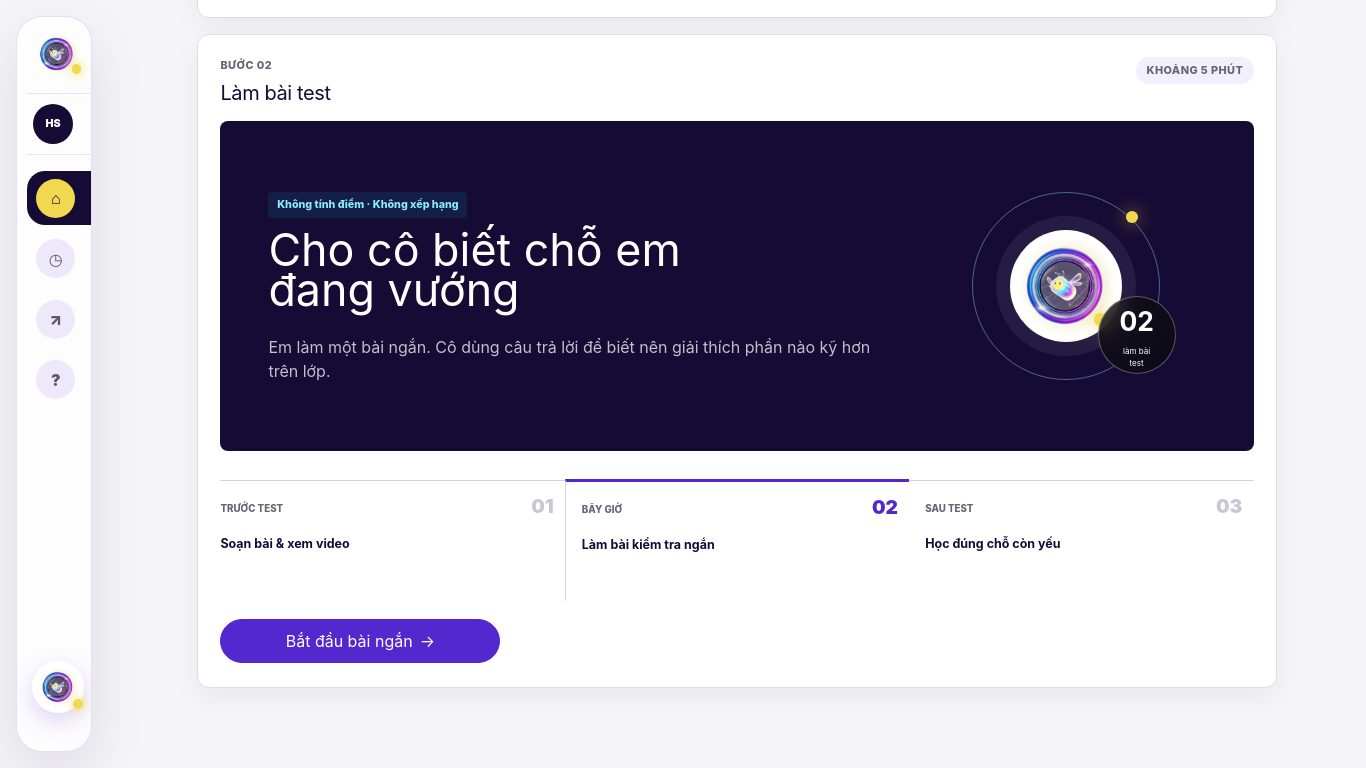
Test: StudentWorkspace › shows the confirmation disambiguation screen for an abstained profile
(page scrolled)
Click the button "Bắt đầu bài ngắn →".
click(360, 641)  # box [220,619,500,663]
(page scrolled)
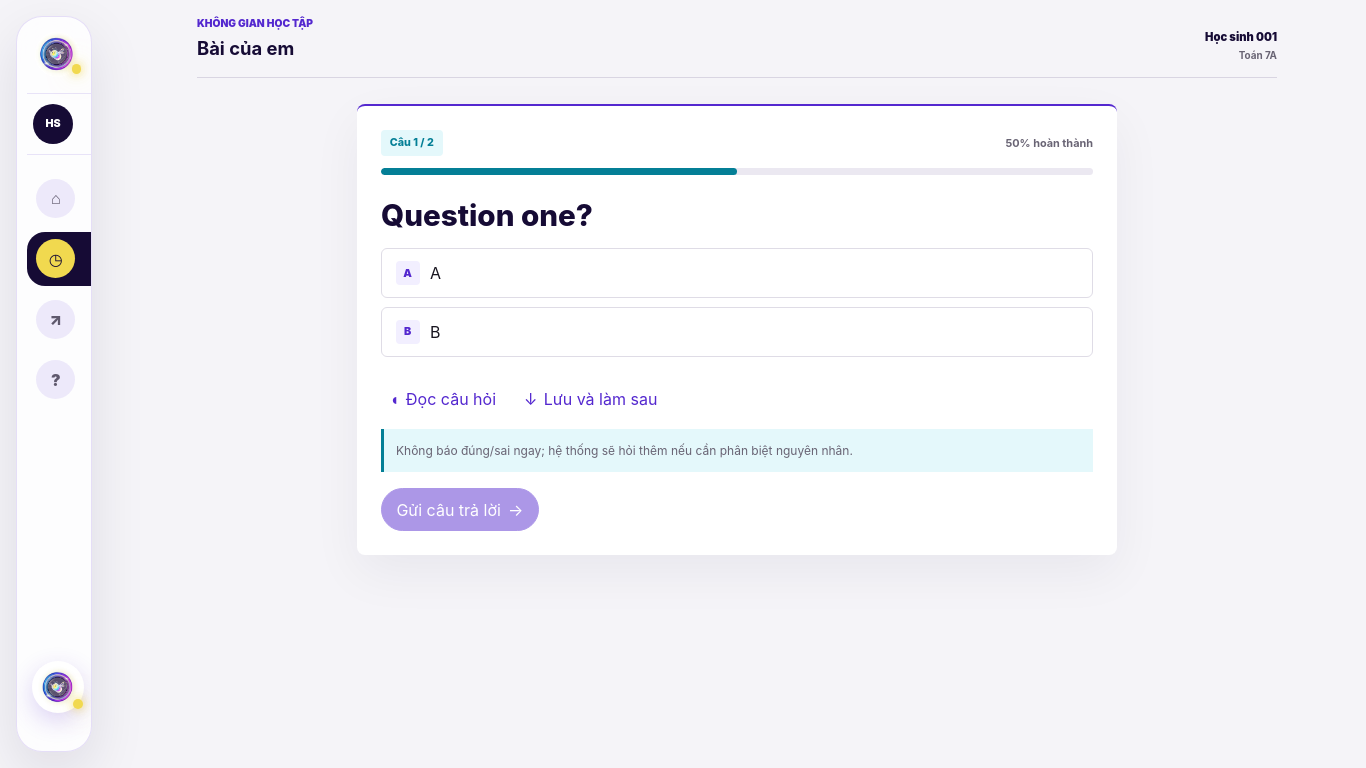
Click the radio button labelled "A A".
click(408, 273)  # box [381,248,1093,298]
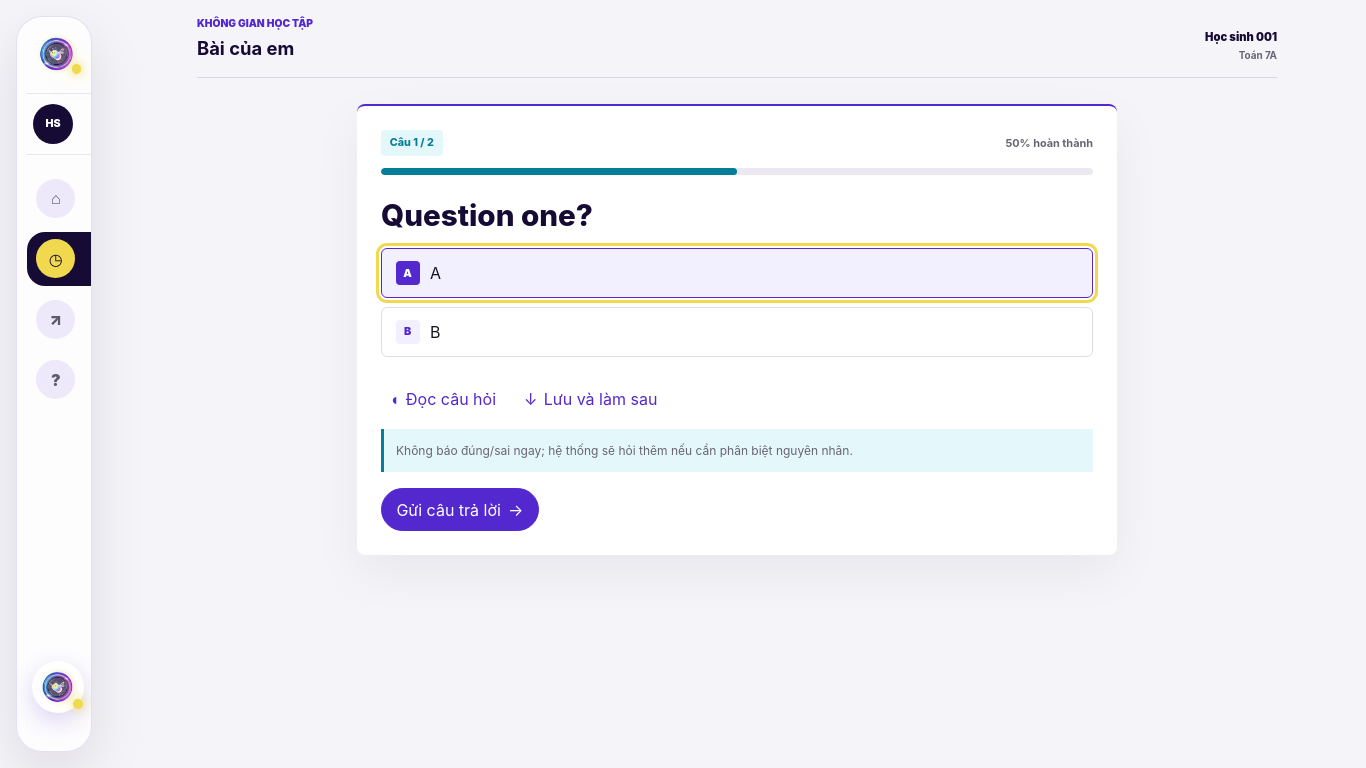
Click the button "Gửi câu trả lời →".
click(460, 510)  # box [381,488,539,531]
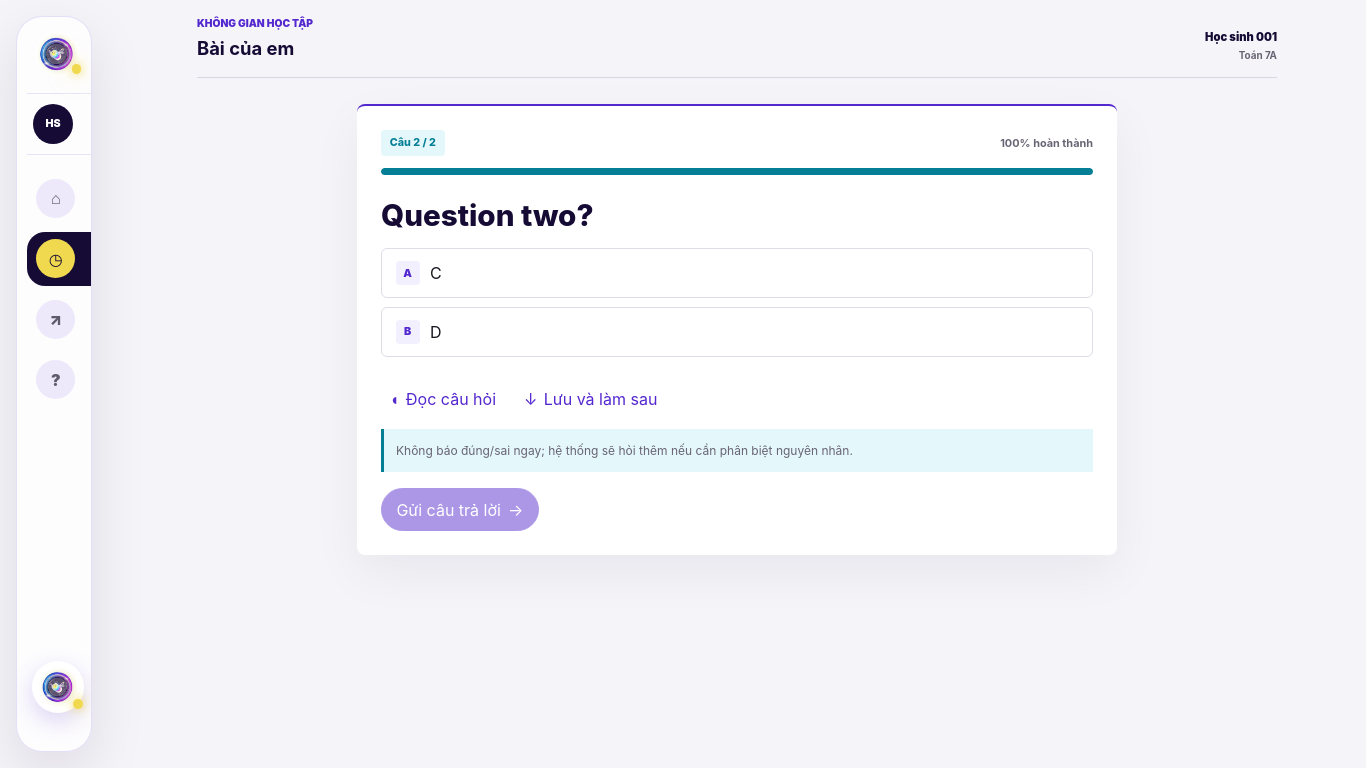
Click the radio button labelled "A C".
click(408, 273)  # box [381,248,1093,298]
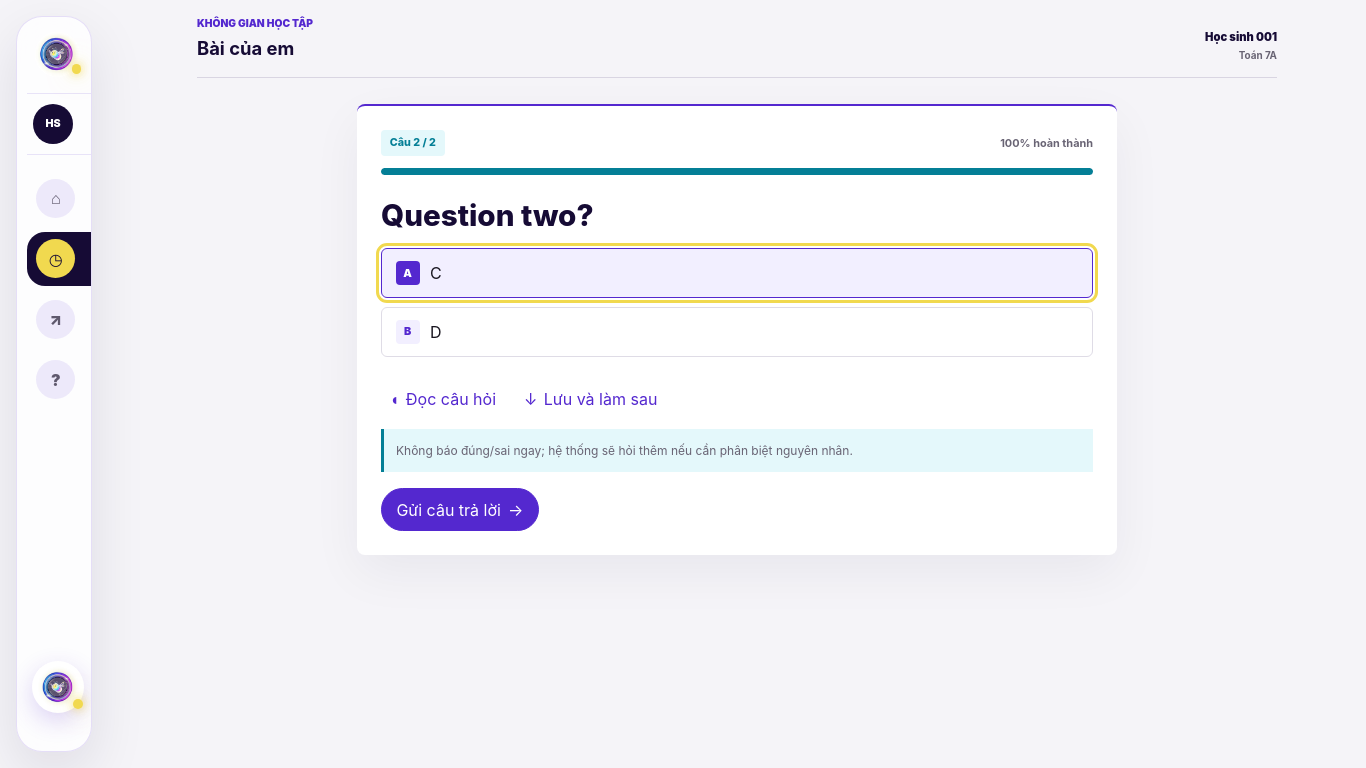
Click the button "Gửi câu trả lời →".
click(460, 510)  # box [381,488,539,531]
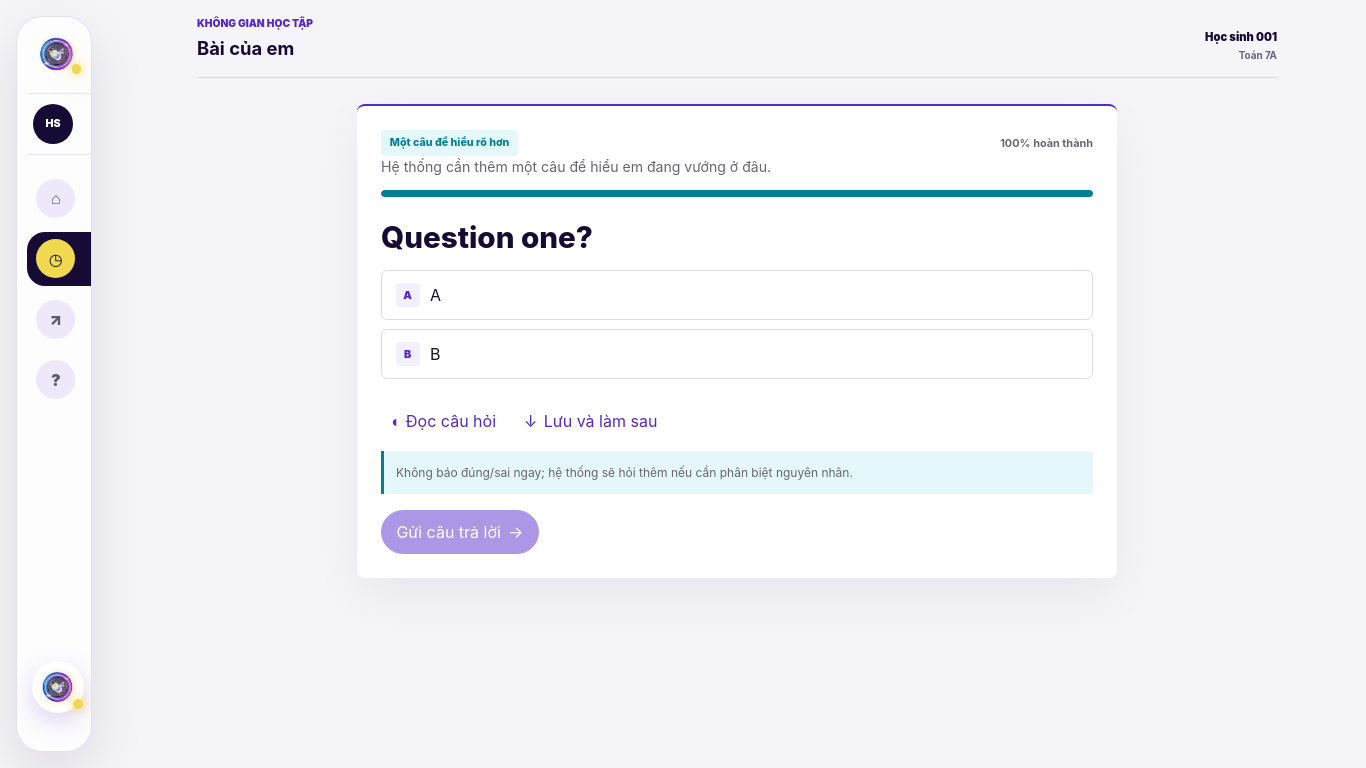
Result: the text "Hệ thống cần thêm một câu để hiểu em đang vướng ở đâu." is shown at [381,158,771,175]
